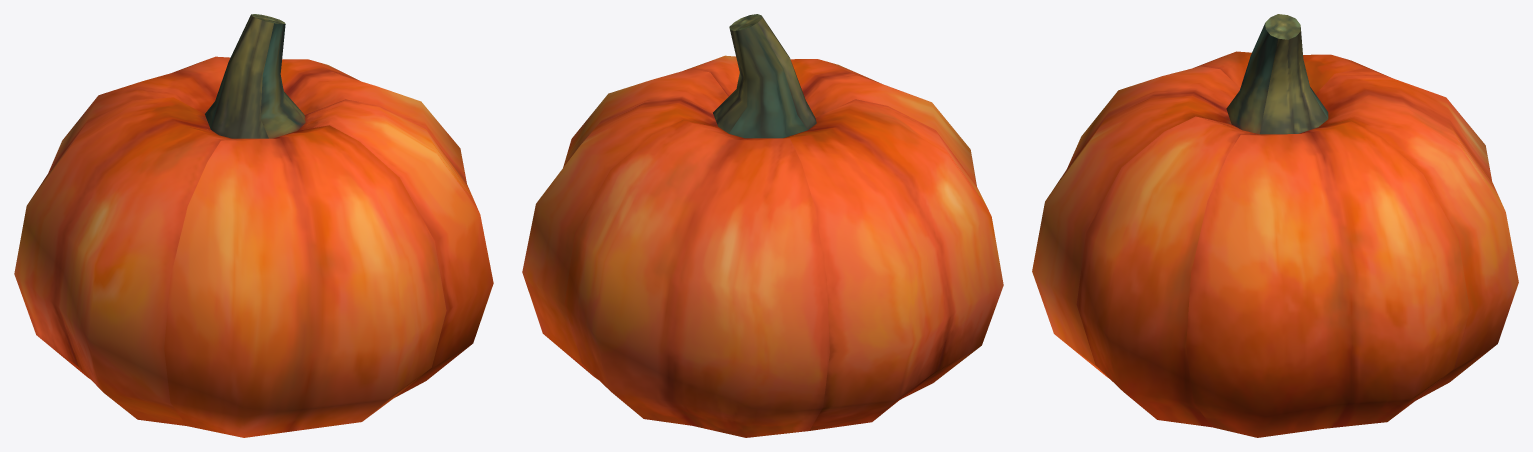
File: Pumpkin.fbx
3 renders of one model, left to right at view 1: azimuth 30°, elevation 25°; view 2: azimuth 150°, elevation 25°; view 3: azimuth 270°, elevation 25°, orthographic.
Parts seen in each view (by area): view 1: Object.005; view 2: Object.005; view 3: Object.005.
Part boxes in pixels (x1,y1,x2,y2): Object.005: (14,14,493,437); Object.005: (522,14,1003,437); Object.005: (1032,14,1518,437).
Size of the model in its own units: 44.28 by 36.76 by 44.46.
